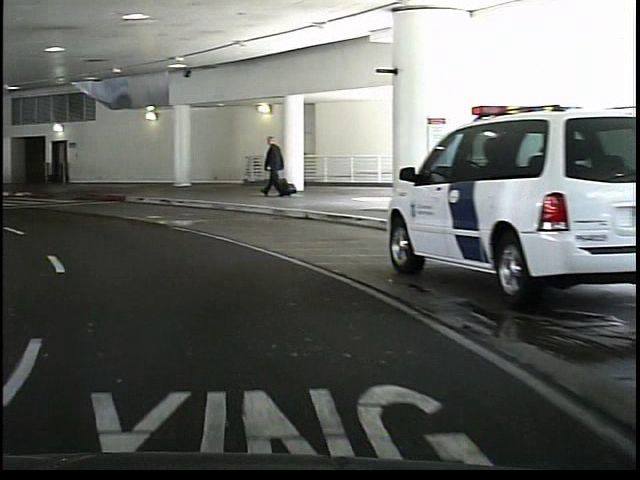person: (257, 132, 284, 202)
